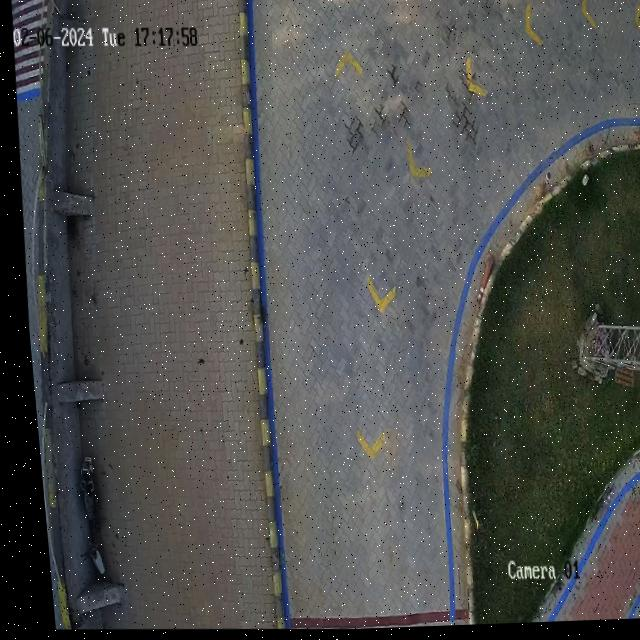No Car: (11, 0, 640, 631)
